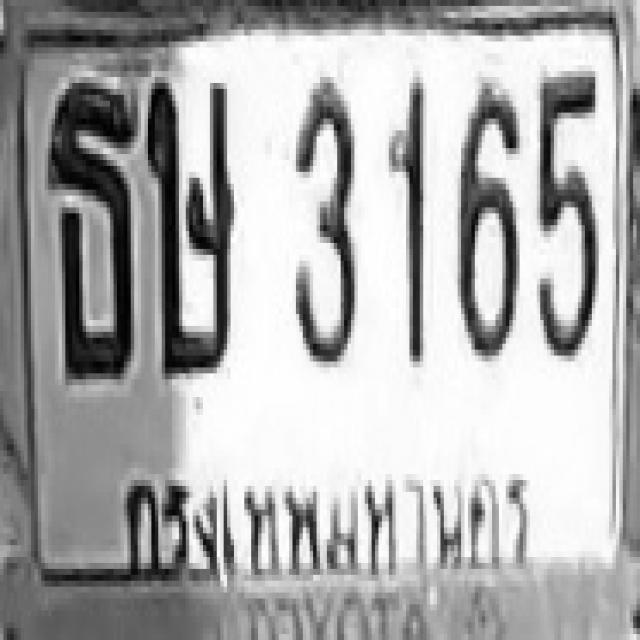1: (385, 77, 427, 367)
3: (291, 80, 356, 364)
33ThorThong: (44, 77, 130, 373)
48SorRueSi: (144, 77, 234, 373)
5: (535, 68, 597, 359)
6: (454, 80, 520, 359)
Bangkok: (116, 435, 532, 584)
